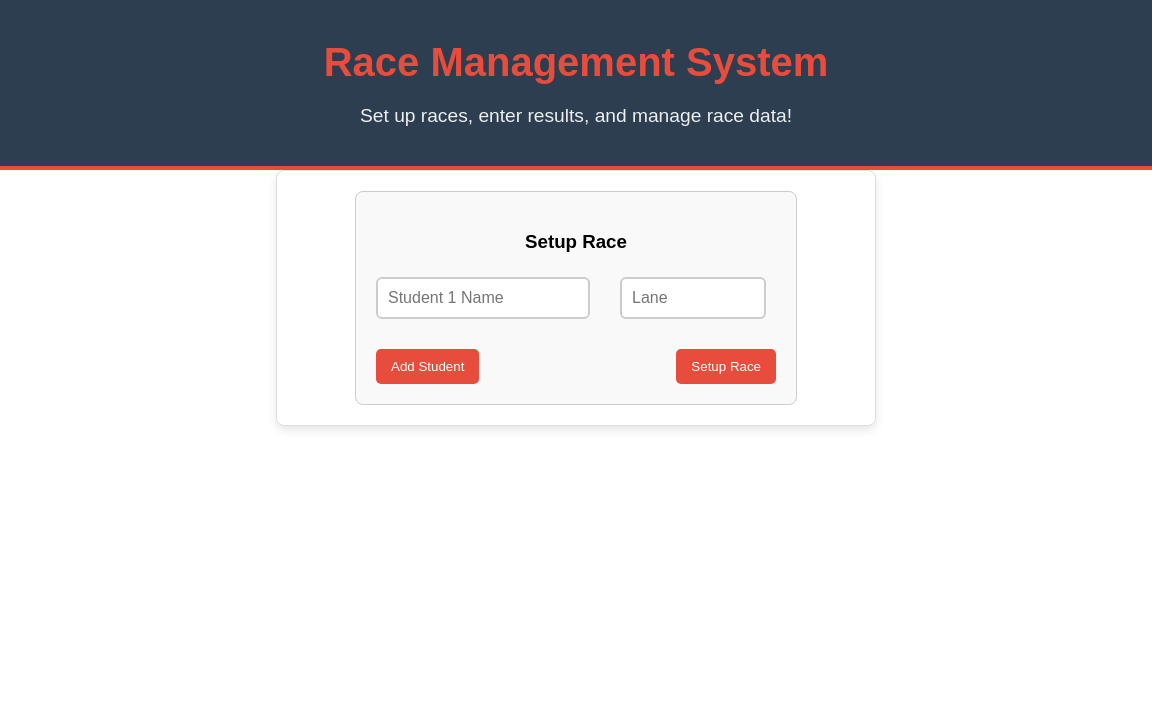
Test: Race Setup Edge Cases › should not allow submitting with empty fields
What coordinates should you click on to do the following:
click the button with class "add-btn"
I would click on:
 (428, 367)
Its box is [376,349,479,384].
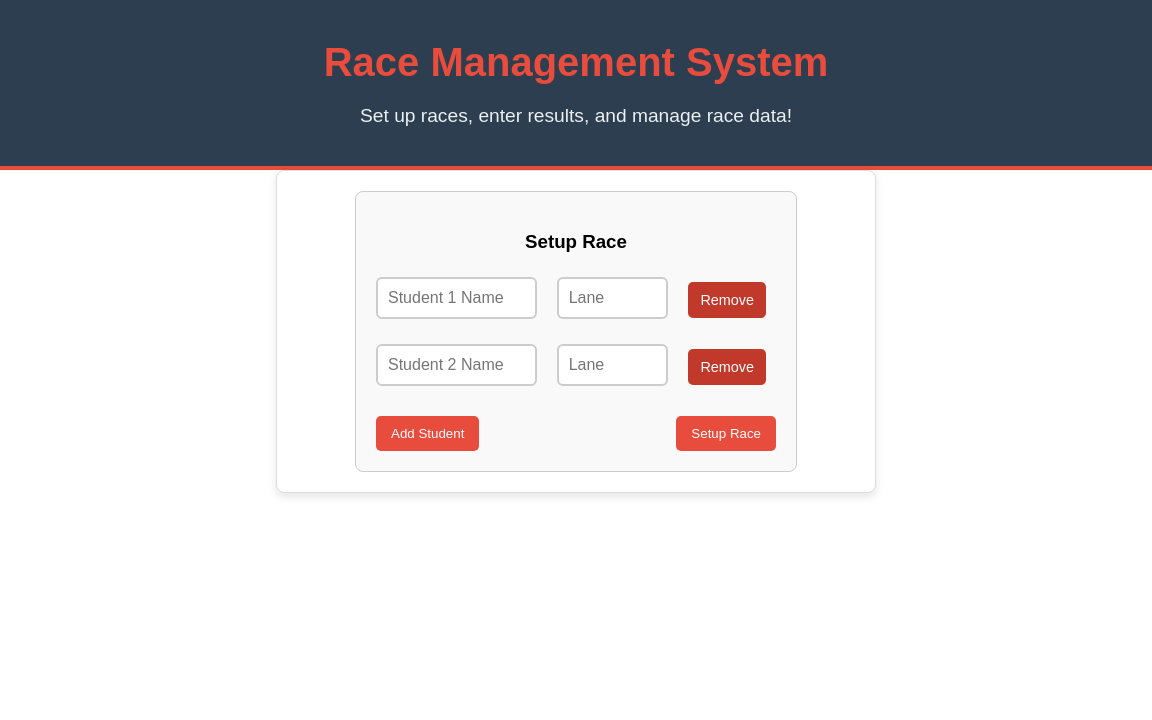
# Leave fields empty and attempt to submit
What coordinates should you click on to do the following:
click the button with class "submit-btn"
I would click on:
 (726, 434)
Its box is [676,416,776,451].
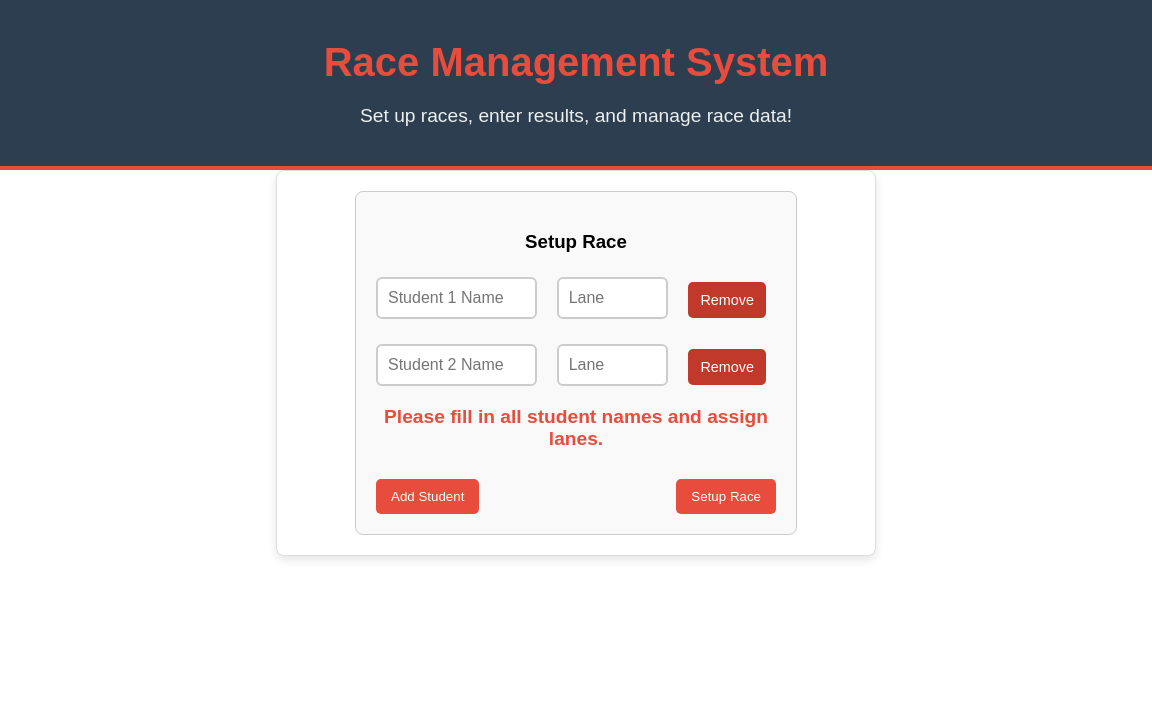
Result: the text with class "error-message" reads "Please fill in all student names and assign lanes." at [384,406,768,449]
